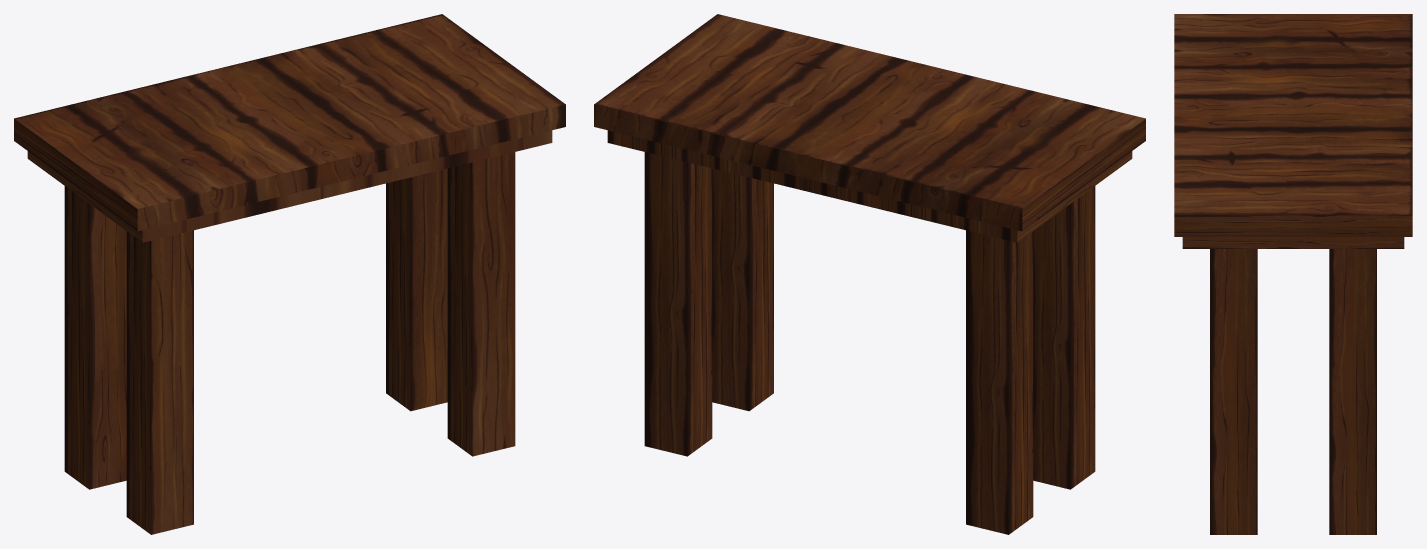
File: table_2.glb
3 renders of one model, left to right at view 1: azimuth 30°, elevation 25°; view 2: azimuth 150°, elevation 25°; view 3: azimuth 270°, elevation 25°, orthographic. The views are drawn at different scales.
Parts seen in each view (by area): view 1: table_top; view 2: table_top; view 3: table_top.
Part boxes in pixels (x1,y1,x2,y2): table_top: [14, 14, 565, 534]; table_top: [594, 14, 1145, 534]; table_top: [1174, 14, 1412, 534].
Size of the model in its own units: 8 by 6.2 by 4.
2 materials, 2 textured.
